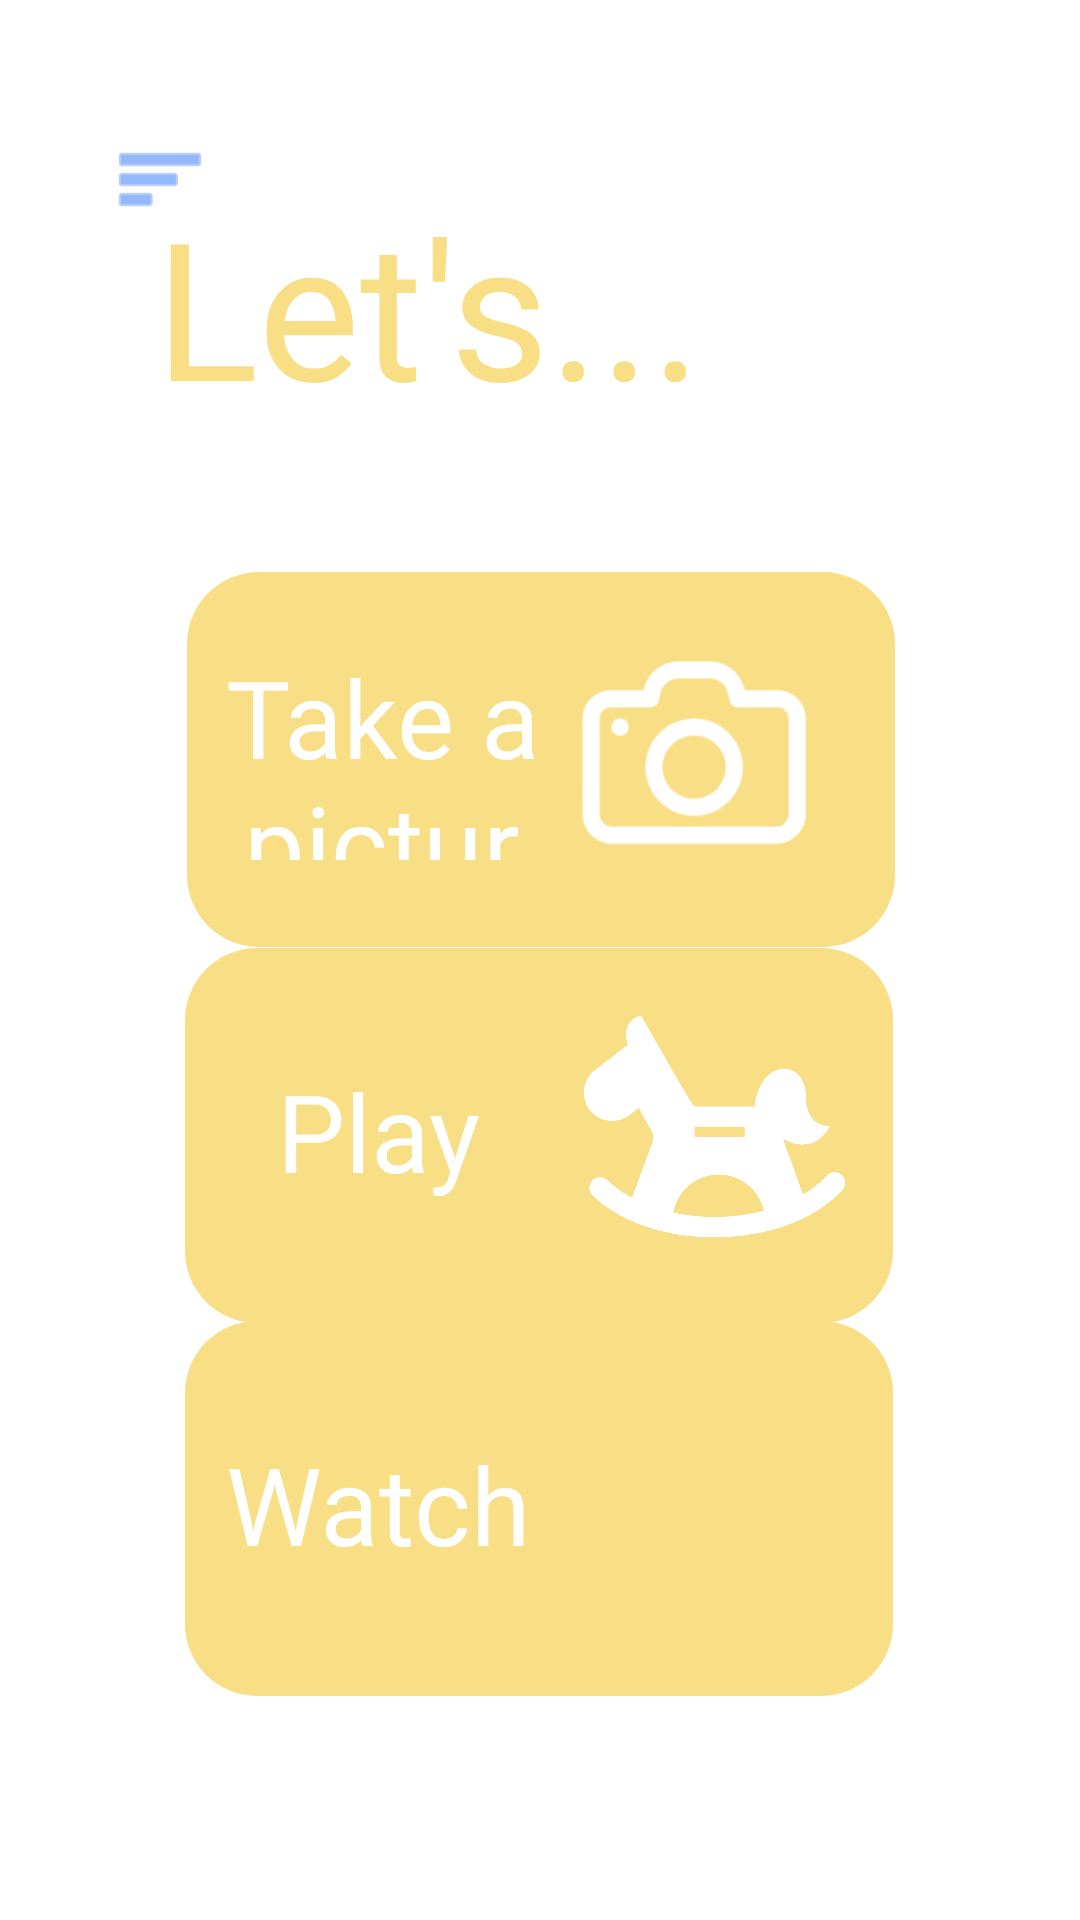

Icon click points for this 1080x1920 phone screenshot, format point (x, y):
camera: point (646, 760)
horse: point (714, 1126)
sort by size: point (160, 179)
